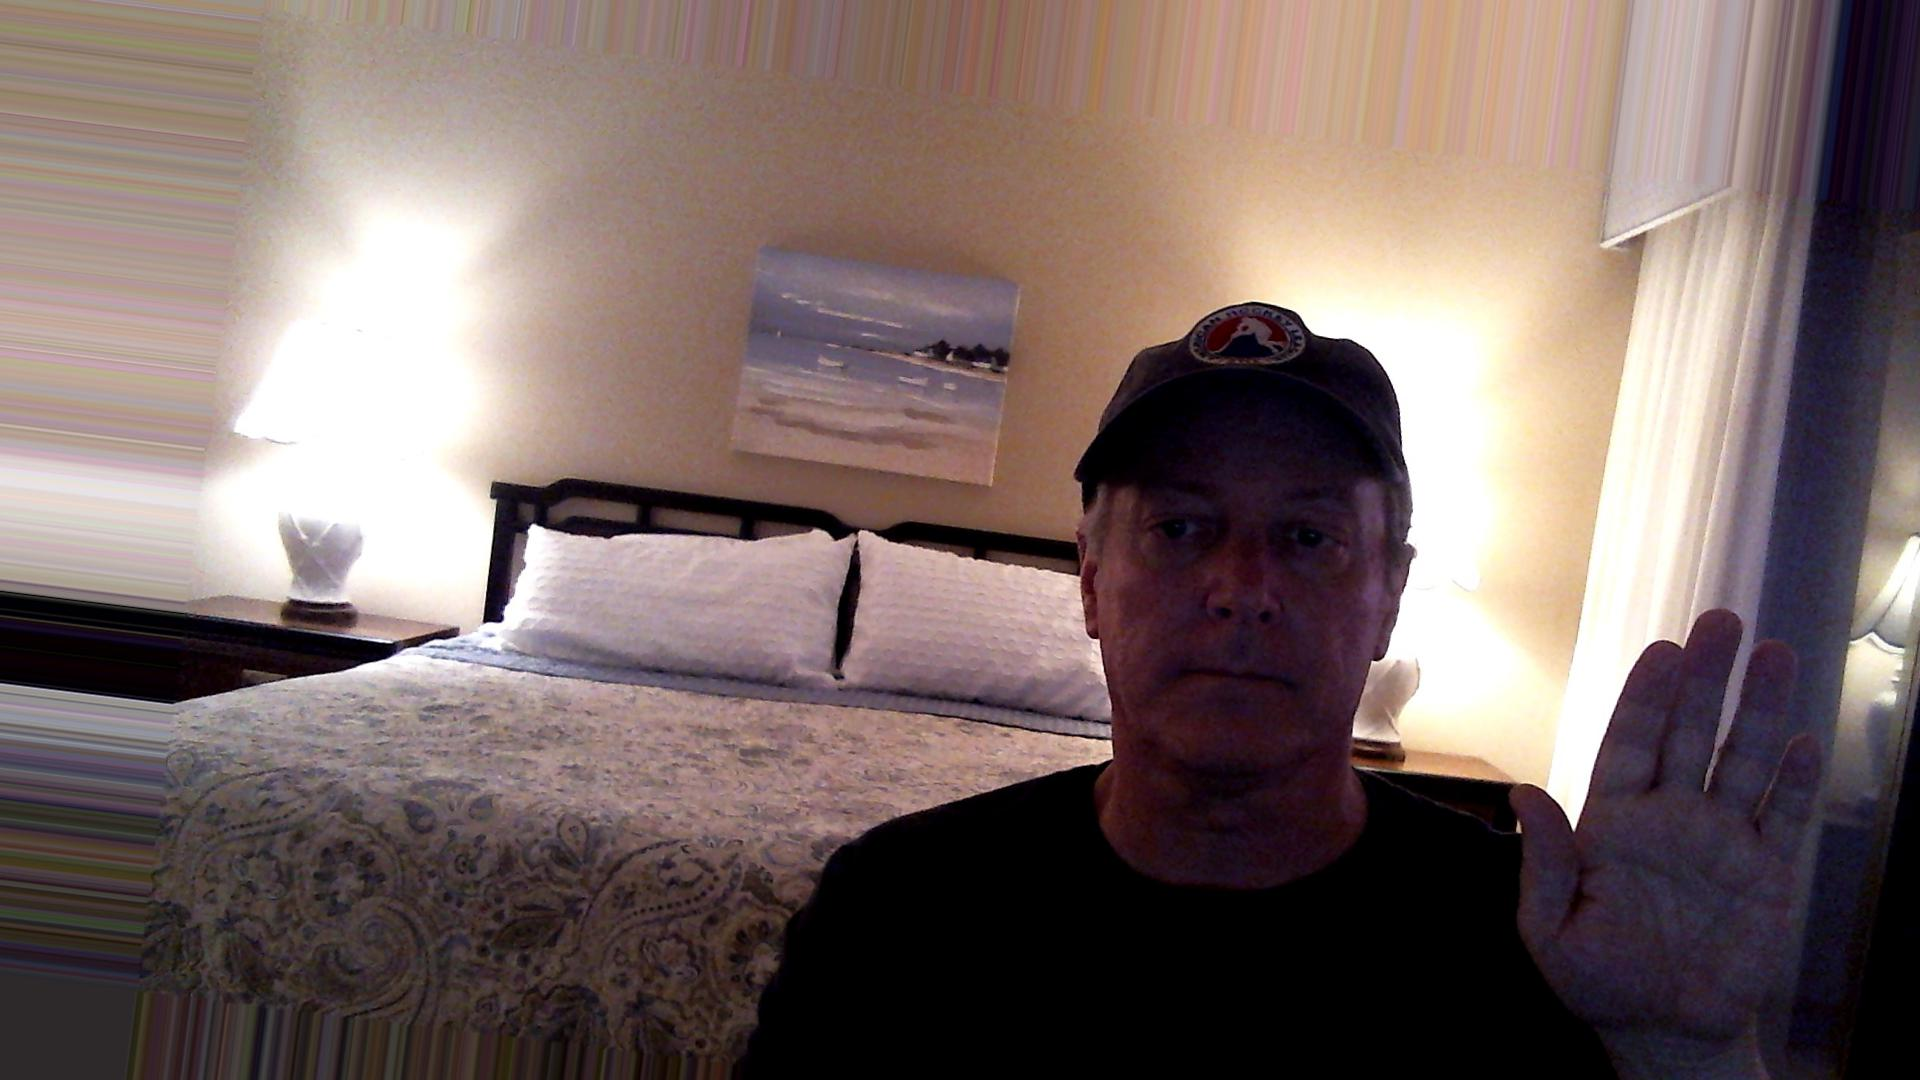Hello: (1487, 576, 1837, 1052)
